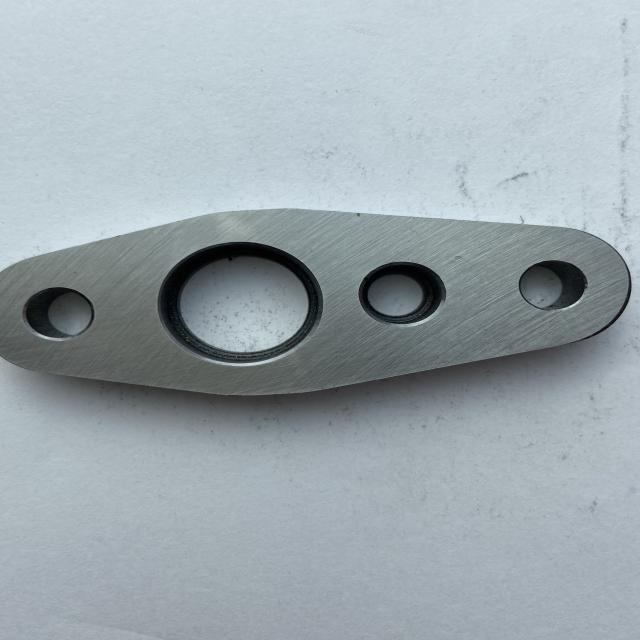chap: (353, 213, 361, 219), (453, 255, 465, 259)
